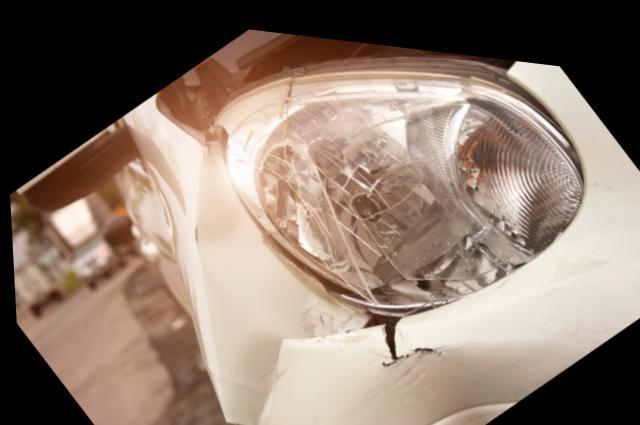crack: (379, 309, 398, 355)
dent: (188, 141, 365, 423), (411, 333, 532, 425)
dislocated part: (262, 48, 640, 425)
lamp broken: (211, 45, 584, 304)
